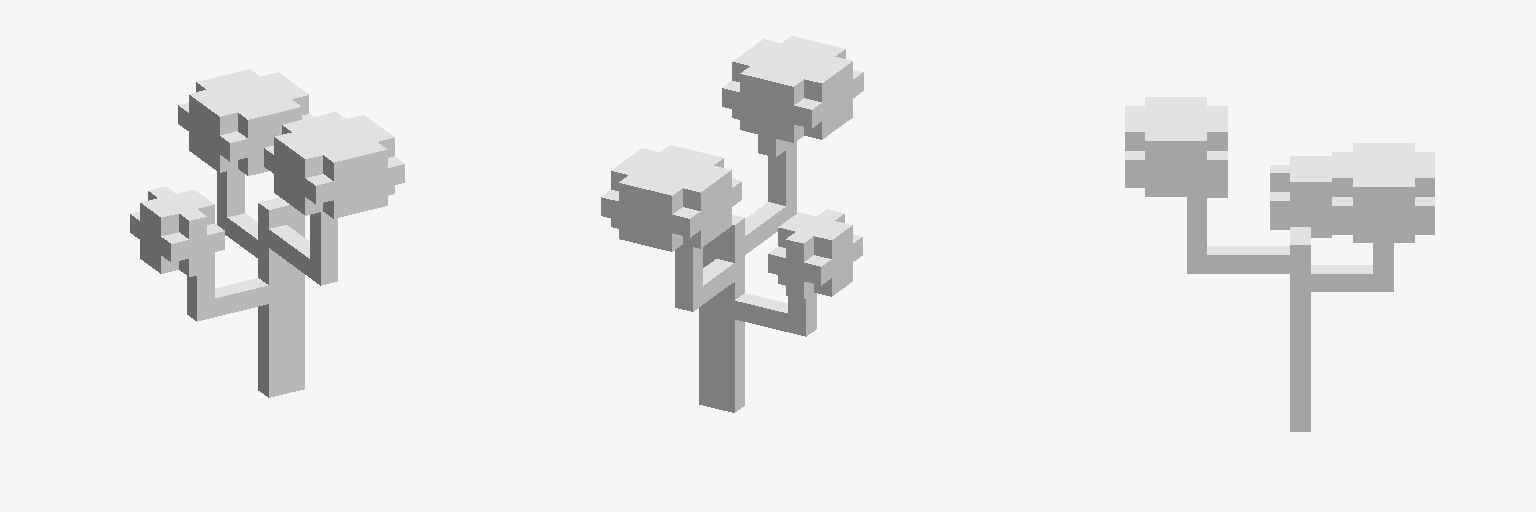
Rendered from Tree2-0.obj.
3 renders of one model, left to right at view 1: azimuth 30°, elevation 25°; view 2: azimuth 150°, elevation 25°; view 3: azimuth 270°, elevation 25°, orthographic.
Parts seen in each view (by area): view 1: object 1; view 2: object 1; view 3: object 1.
Part boxes in pixels (left/top/right/bottom): object 1: left=130, top=69, right=404, bottom=397; object 1: left=601, top=36, right=863, bottom=412; object 1: left=1125, top=97, right=1434, bottom=431.
Size of the model in its own units: 1 by 1.6 by 1.5.